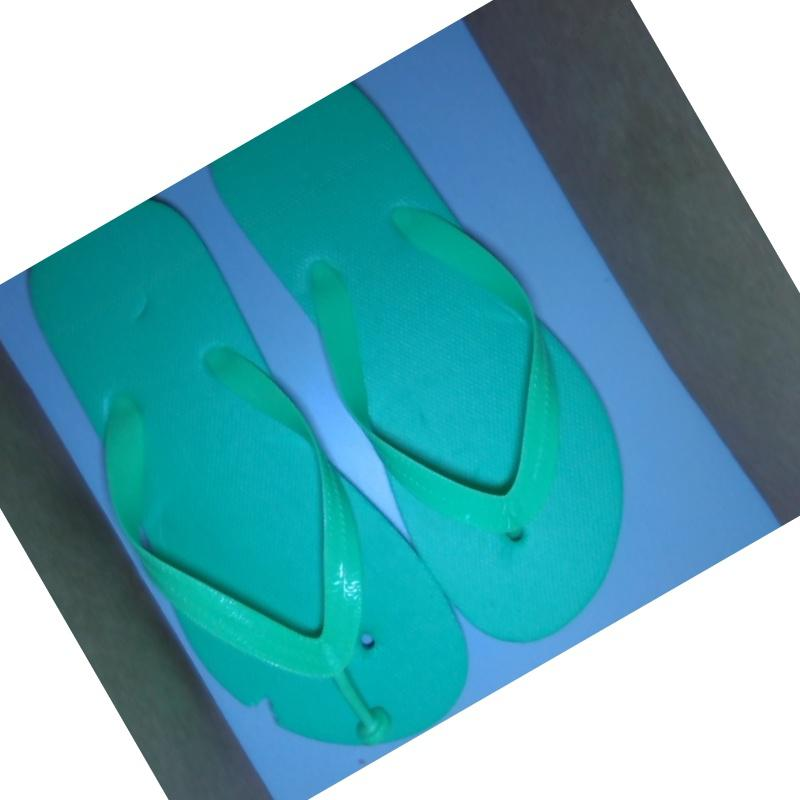chipped: (241, 682, 291, 736)
detached: (345, 692, 392, 751)
